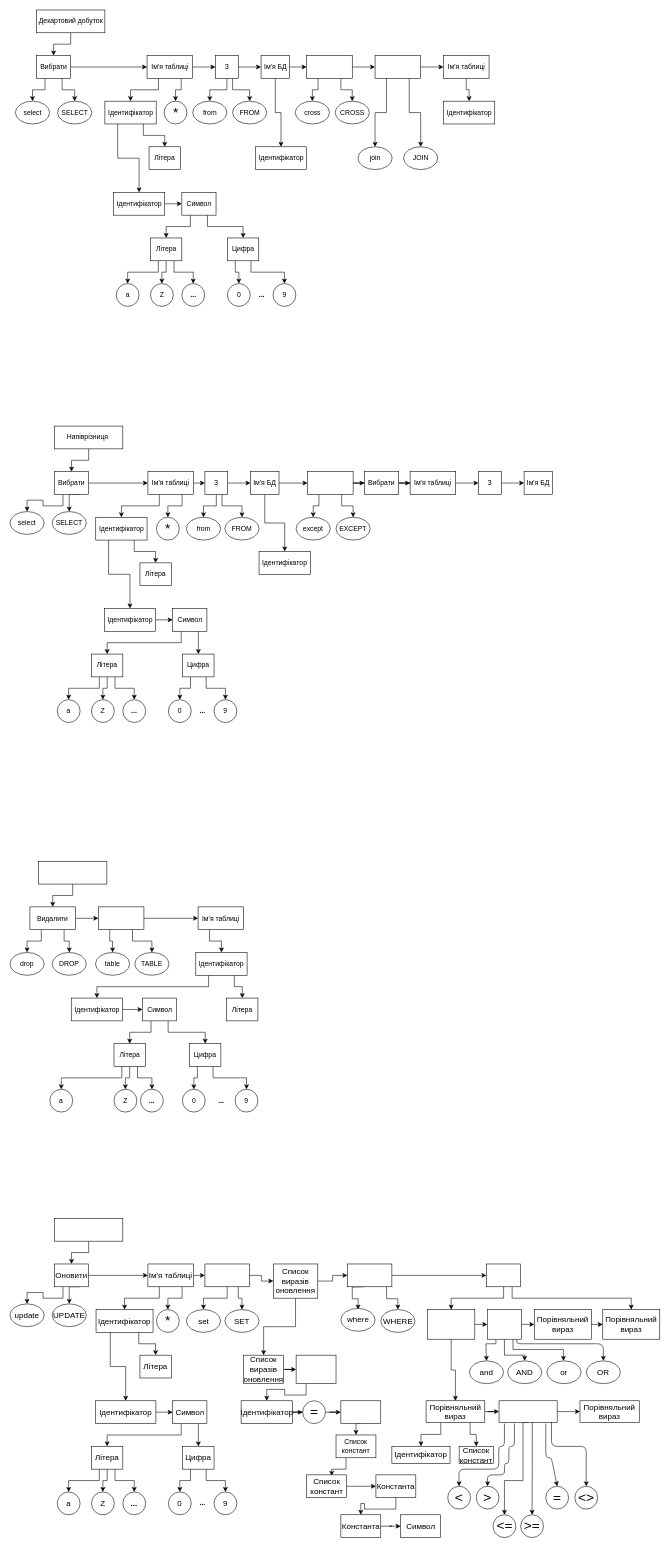
This 670x1548 diagram has some shape labels left out. Each missing label, with the centre of its shape:
Видалити таблицю: point (72, 872)
Вираз оновлення: point (316, 1369)
Встановити: point (226, 1275)
Де: point (369, 1275)
Значення атрибуту: point (360, 1412)
Логічний оператор: point (504, 1324)
Окрім: point (330, 482)
Оновити таблицю: point (88, 1229)
Пересічне: point (329, 66)
Порівняльний оператор: point (527, 1411)
Список порівняльних виразів: point (451, 1324)
Сполучення: point (397, 66)
Таблицю: point (121, 918)
Умова: point (503, 1275)
